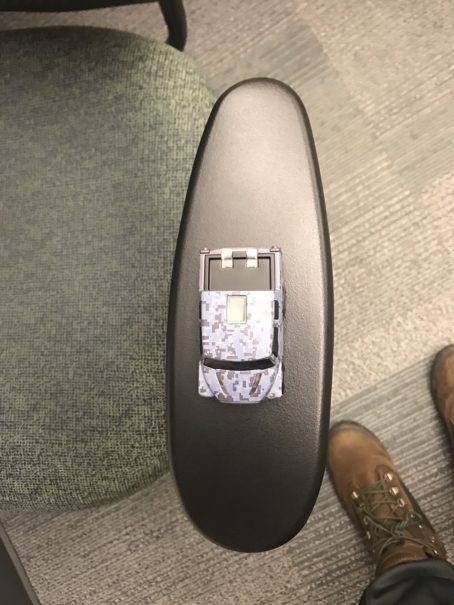MXT: (194, 245, 286, 407)
